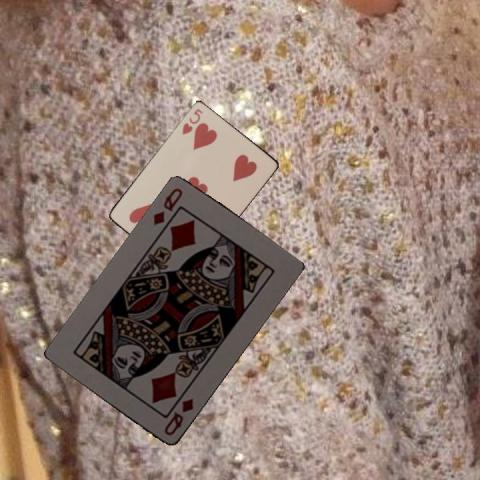5h: (179, 105, 204, 136)
Qd: (161, 395, 195, 438), (150, 185, 184, 228)
